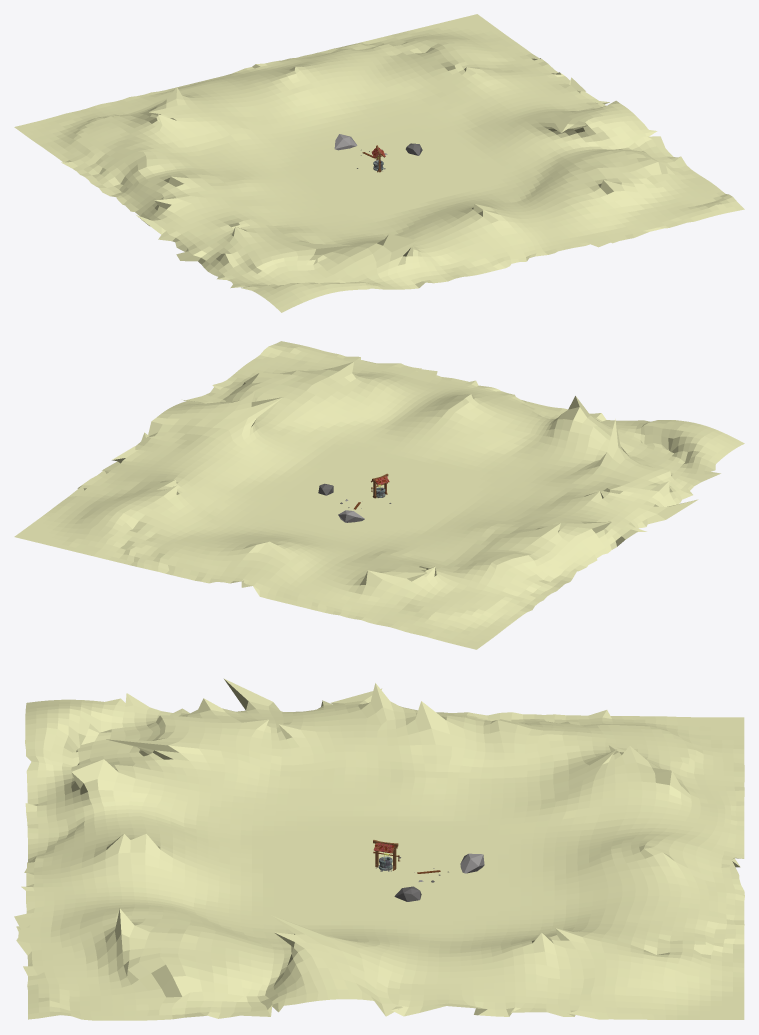
Rendered from Terrain.glb.
3 views of the same model, one above another, from view 1: azimuth 30°, elevation 25°; view 2: azimuth 150°, elevation 25°; view 3: azimuth 270°, elevation 25° (orthographic). The views are drawn at different scales.
Parts seen in each view (by area): view 1: Plane; view 2: Plane; view 3: Plane.
Boxes of the visible parts, x1=… form: Plane: x1=14, y1=14, x2=744, y2=312; Plane: x1=14, y1=341, x2=744, y2=649; Plane: x1=14, y1=678, x2=744, y2=1020.
Size of the model in its own units: 323 by 25.11 by 306.
